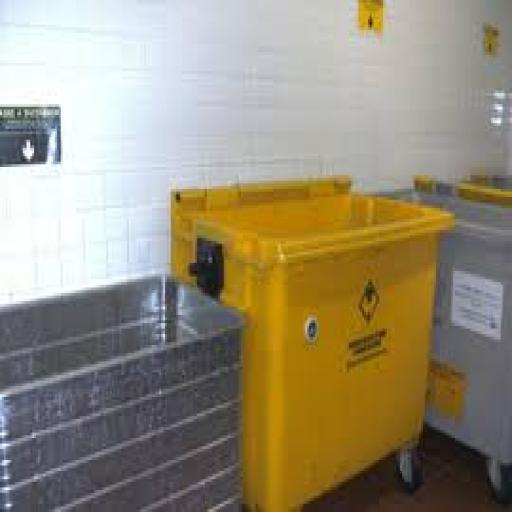poubelle_vide: (160, 133, 462, 512)
